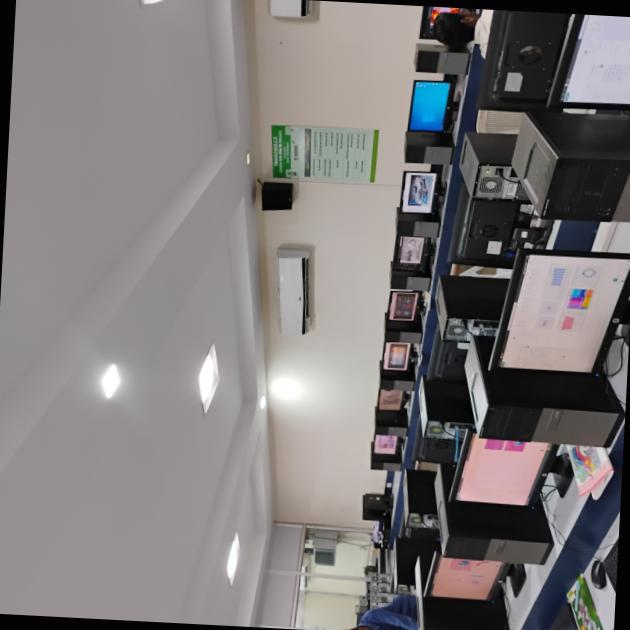air conditioner: (264, 246, 333, 343)
computer: (500, 244, 630, 383), (458, 434, 542, 518), (452, 190, 528, 274), (402, 82, 459, 134)
cpu: (466, 372, 626, 452), (432, 512, 564, 571), (406, 44, 481, 82), (397, 134, 462, 168), (392, 213, 443, 238)
light: (160, 328, 240, 434), (214, 534, 252, 589), (88, 363, 136, 405)
speaker: (249, 178, 313, 220)
